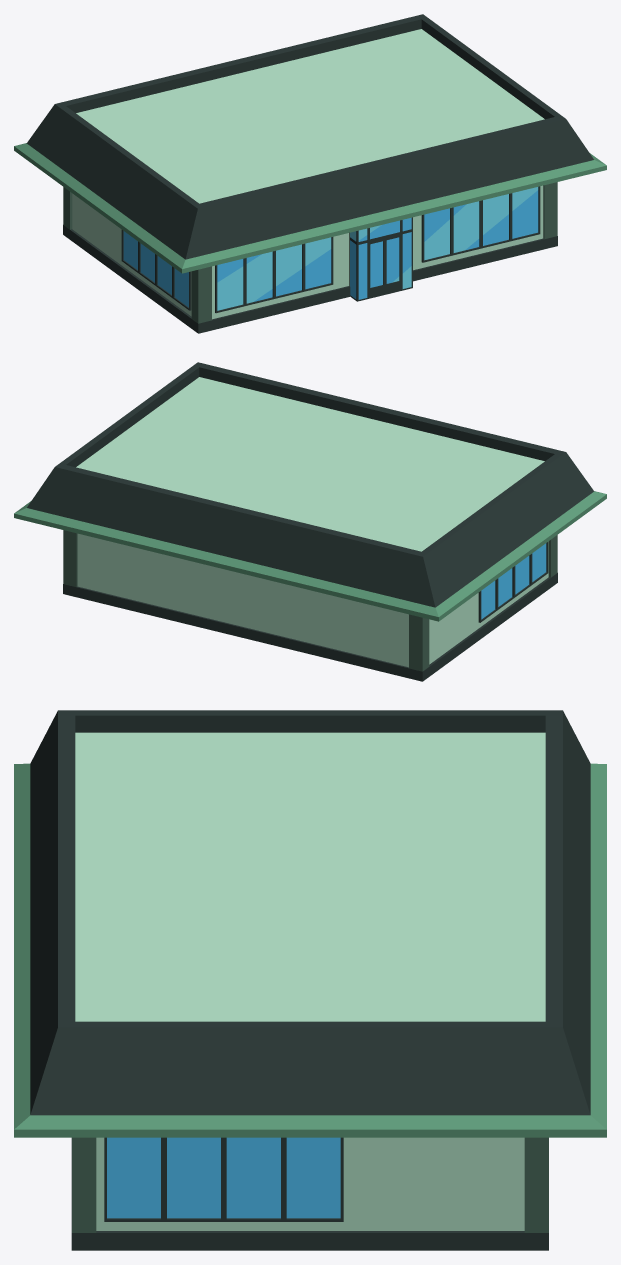
The model's file is Env_CommercialBuilding_01.fbx.
The picture shows the model from 3 angles, top to bottom: view 1: azimuth 30°, elevation 25°; view 2: azimuth 150°, elevation 25°; view 3: azimuth 270°, elevation 25°; orthographic projection. The views are drawn at different scales.
Parts seen in each view (by area): view 1: Env_CommercialBuilding_01; view 2: Env_CommercialBuilding_01; view 3: Env_CommercialBuilding_01.
Boxes of the visible parts, <box> form: Env_CommercialBuilding_01: <box>14,14,606,333</box>; Env_CommercialBuilding_01: <box>14,362,606,681</box>; Env_CommercialBuilding_01: <box>14,710,606,1250</box>.
Size of the model in its own units: 1993 by 578 by 1366.
